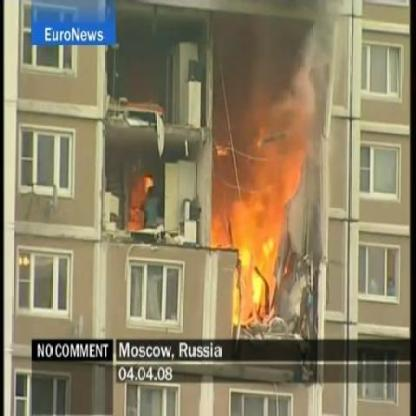fire: (234, 122, 288, 322), (145, 170, 153, 195)
